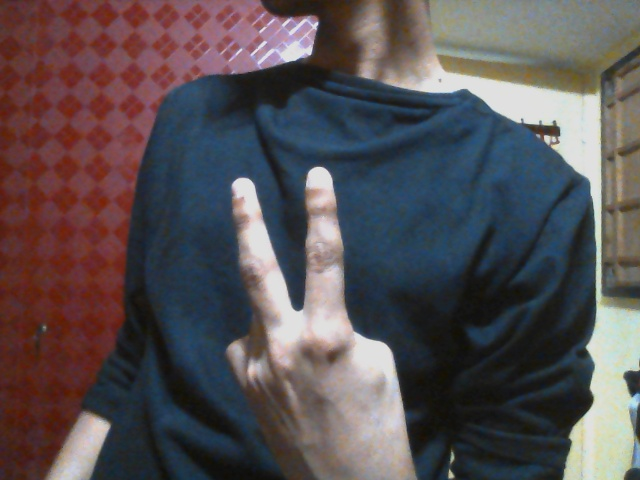V: (223, 167, 406, 445)
